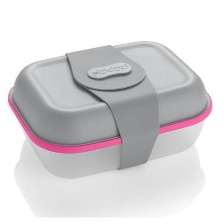plastic_box: (4, 32, 218, 183)
